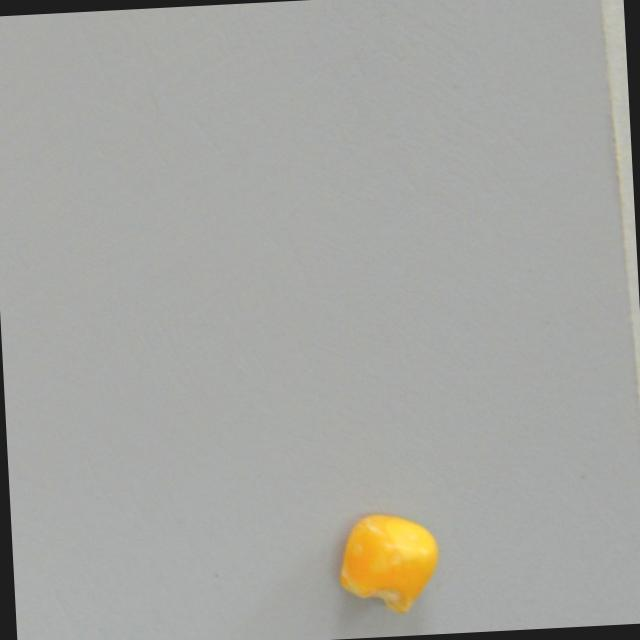no_desgerminado: (333, 511, 444, 620)
